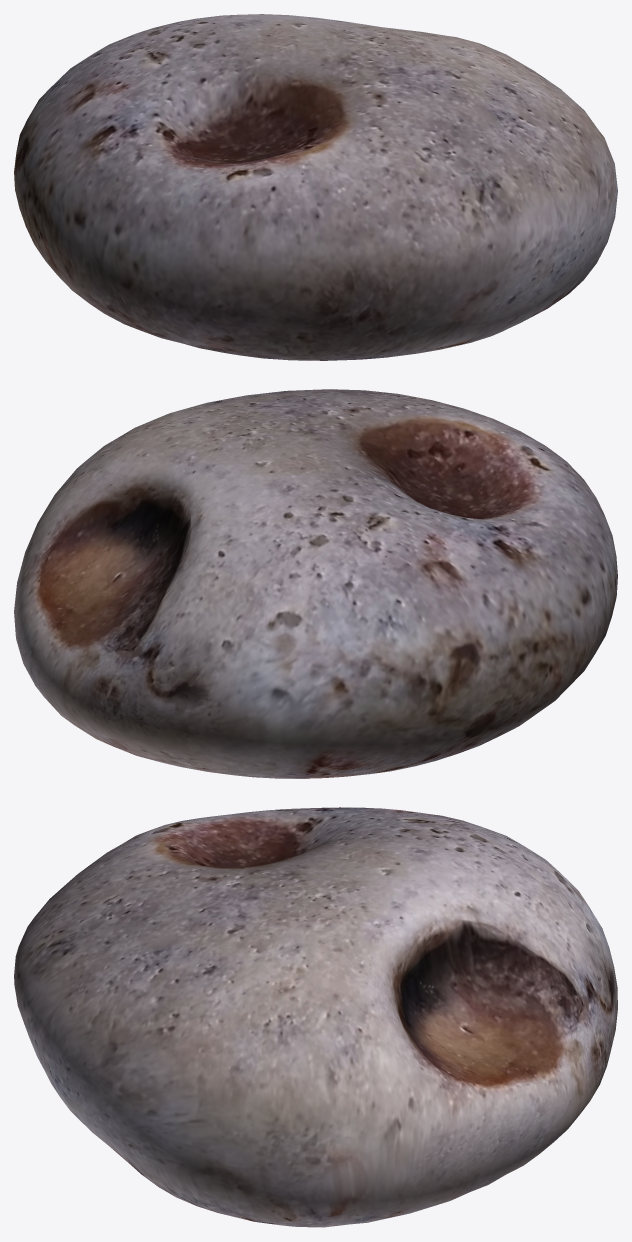
File: BeachRock1.fbx
3 views of the same model, one above another, from view 1: azimuth 30°, elevation 25°; view 2: azimuth 150°, elevation 25°; view 3: azimuth 270°, elevation 25° (orthographic). The views are drawn at different scales.
Parts seen in each view (by area): view 1: BeachRock1_LOD0; view 2: BeachRock1_LOD0; view 3: BeachRock1_LOD0.
Boxes of the visible parts, <box> form: BeachRock1_LOD0: <box>14,14,617,360</box>; BeachRock1_LOD0: <box>14,389,617,778</box>; BeachRock1_LOD0: <box>14,807,617,1227</box>.
Size of what is drawn, in the model's own units: 21.01 by 11.16 by 20.65.
